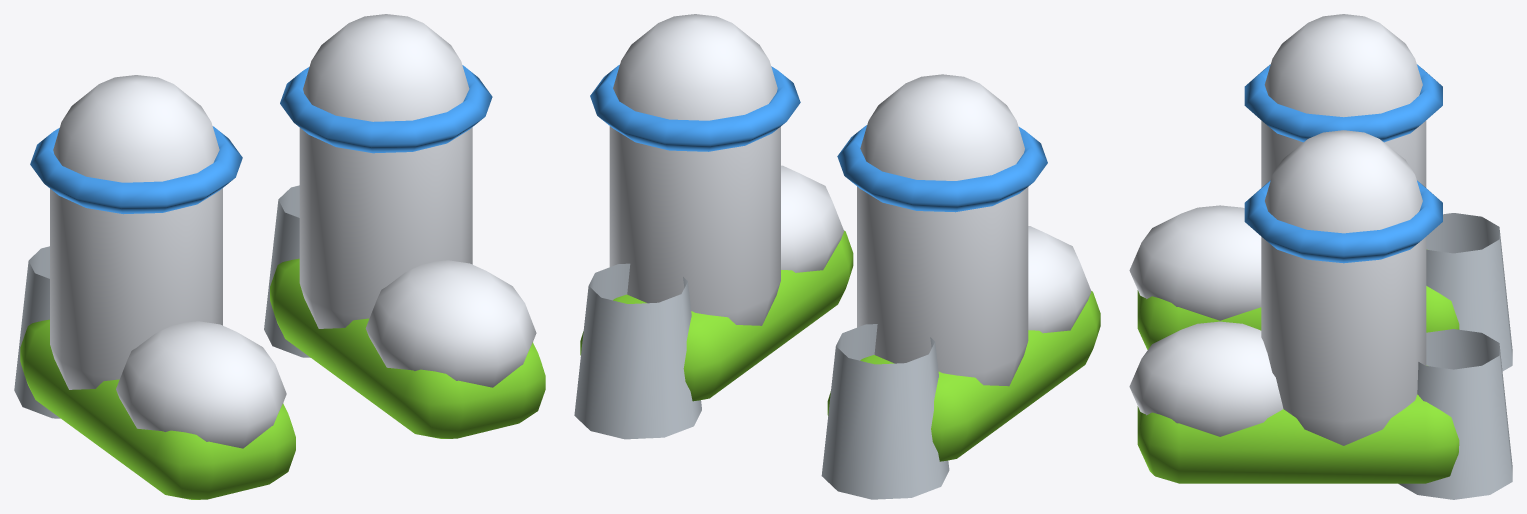
File: RocketBoots.fbx
The picture shows the model from 3 angles, left to right: view 1: azimuth 30°, elevation 25°; view 2: azimuth 150°, elevation 25°; view 3: azimuth 270°, elevation 25°; orthographic projection. The views are drawn at different scales.
Parts seen in each view (by area): view 1: RocketBoots; view 2: RocketBoots; view 3: RocketBoots.
Boxes of the visible parts, box(x1,y1,x2,y2) form: RocketBoots: box(14, 14, 545, 499); RocketBoots: box(574, 14, 1100, 499); RocketBoots: box(1129, 14, 1512, 499).
Bounding box in the file's own units: 0.348 × 0.284 × 0.2788.
